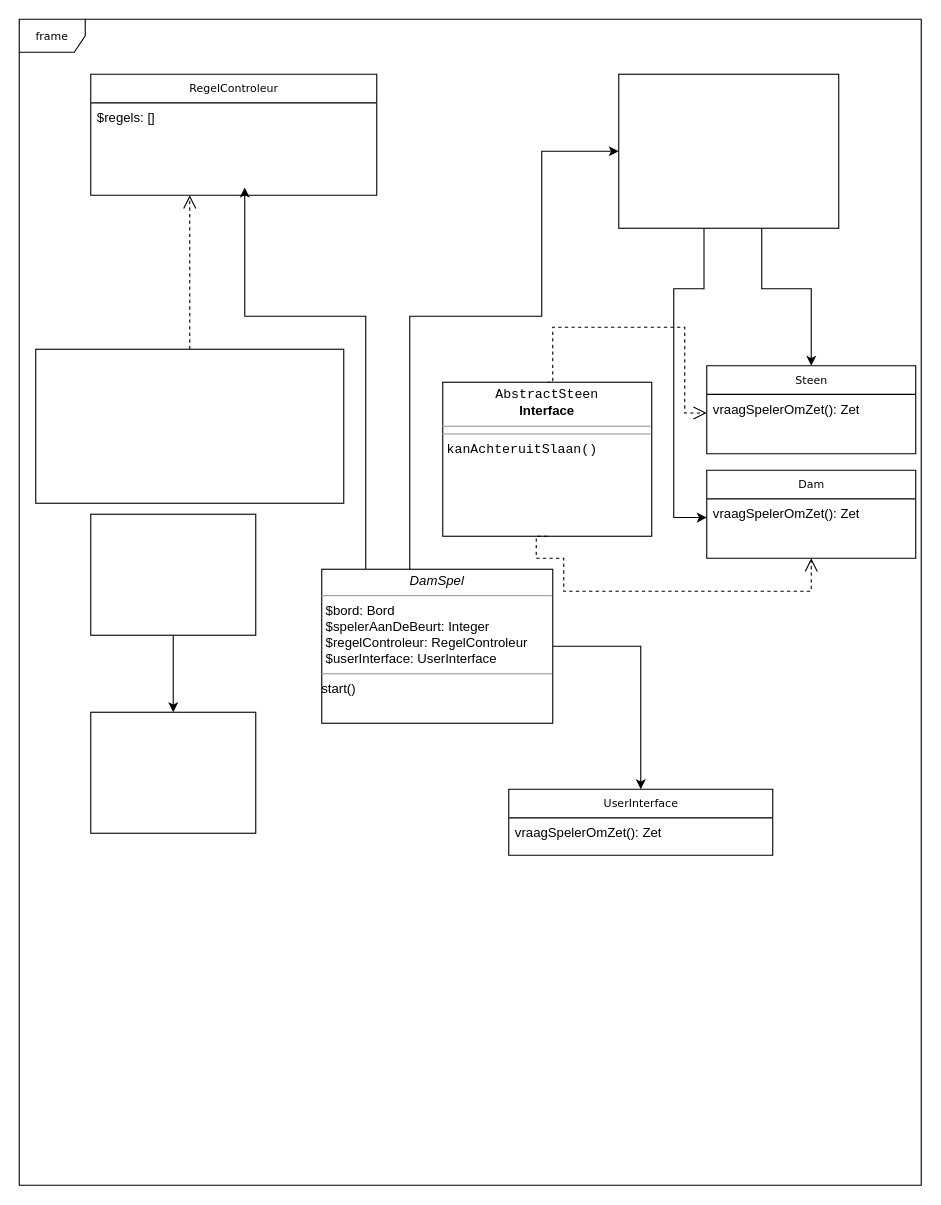
Some shapes in this 941 by 1205 pixel diagram are drawn without their labels. The shapes that lost their labels are listed below. From the top down, each one's centre as x and y in pixels, then its label:
At (x=728, y=150): "Bord $vakjes: Vak[] voerZetUit($zet) printStatus()".
At (x=189, y=425): "AbstractRegel Interface check($zet, $bord, $spelerAanDeBeurt)".
At (x=173, y=574): "Zet $vanPositie: Positie $naarPositie: Positie".
At (x=173, y=772): "Positie $x: Integer $y: Integer".
